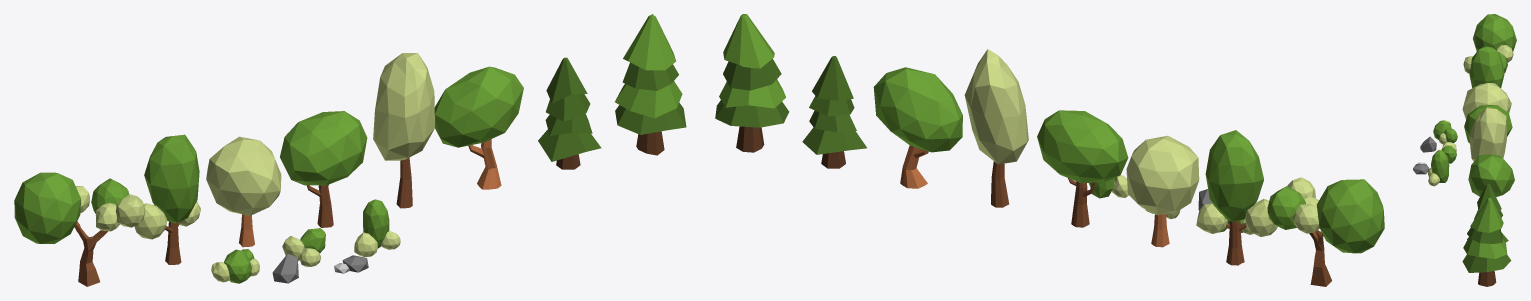
The model's file is trees (1).fbx.
3 renders of one model, left to right at view 1: azimuth 30°, elevation 25°; view 2: azimuth 150°, elevation 25°; view 3: azimuth 270°, elevation 25°, orthographic. The views are drawn at different scales.
Parts seen in each view (by area): view 1: tree 1, tree 8, tree 6, tree 5, tree 4, tree 2, tree 3, tree 7, bush 2, bush 3, bush 1, stone 2 (+1 smaller); view 2: tree 1, tree 6, tree 8, tree 2, tree 5, tree 4, tree 3, tree 7, bush 2; view 3: tree 8, tree 5, tree 1, tree 6, tree 2, tree 3, bush 2, tree 4, bush 3, tree 7, bush 1, stone 2 (+1 smaller).
Boxes of the visible parts, box(x1,y1,x2,y2) form: tree 1: box(14, 172, 145, 286); tree 8: box(615, 14, 686, 155); tree 6: box(434, 66, 523, 189); tree 5: box(373, 53, 434, 208); tree 4: box(280, 111, 367, 227); tree 2: box(134, 134, 200, 264); tree 3: box(206, 136, 281, 247); tree 7: box(538, 57, 601, 169); bush 2: box(354, 199, 400, 256); bush 3: box(211, 249, 259, 283); bush 1: box(282, 228, 325, 266); stone 2: box(272, 253, 298, 283); tree 1: box(1267, 177, 1384, 286); tree 6: box(873, 67, 962, 188); tree 8: box(715, 14, 789, 152); tree 2: box(1196, 130, 1277, 265); tree 5: box(964, 49, 1028, 207); tree 4: box(1037, 110, 1128, 227); tree 3: box(1126, 135, 1199, 247); tree 7: box(802, 56, 866, 168); bush 2: box(1088, 175, 1128, 198); tree 8: box(1462, 198, 1511, 286); tree 5: box(1469, 107, 1506, 161); tree 1: box(1463, 14, 1516, 74); tree 6: box(1468, 154, 1514, 196); tree 2: box(1469, 46, 1504, 87); tree 3: box(1462, 83, 1511, 119); bush 2: box(1428, 150, 1449, 186); tree 4: box(1464, 105, 1512, 143); bush 3: box(1433, 120, 1457, 144); tree 7: box(1467, 184, 1508, 242); bush 1: box(1438, 142, 1456, 163); stone 2: box(1420, 136, 1436, 152).
Size of what is drawn, in the model's own units: 1250 by 280 by 261.
